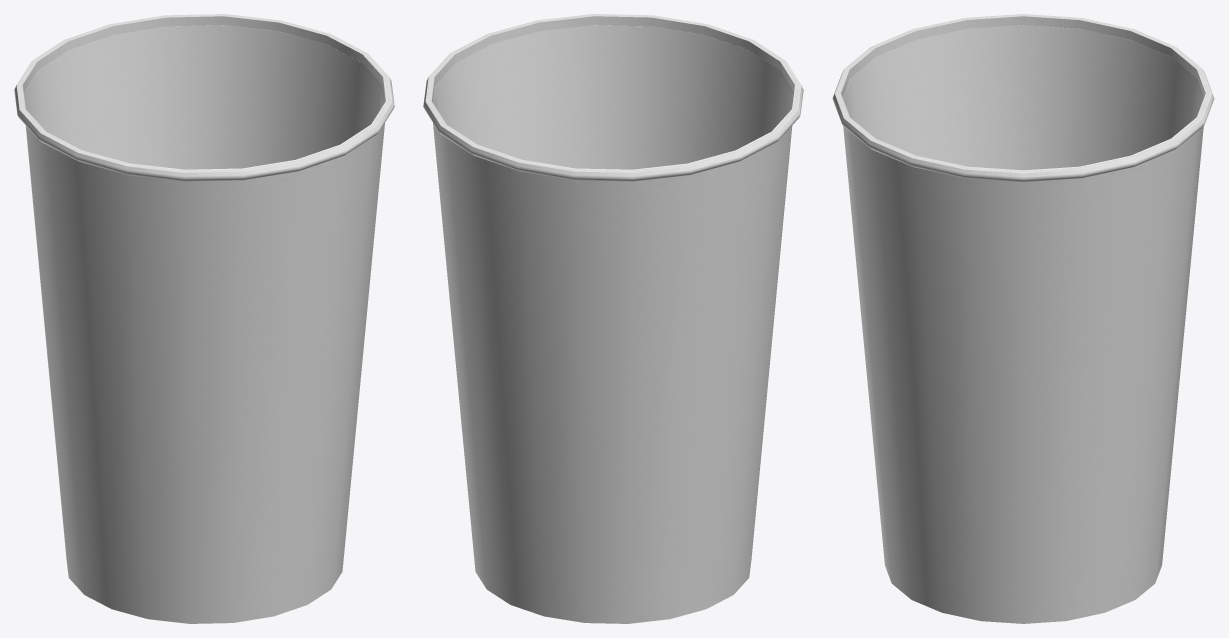
File: CokeCup.obj
3 renders of one model, left to right at view 1: azimuth 30°, elevation 25°; view 2: azimuth 150°, elevation 25°; view 3: azimuth 270°, elevation 25°, orthographic.
Parts seen in each view (by area): view 1: polySurface1; view 2: polySurface1; view 3: polySurface1.
Part boxes in pixels (box(x1,y1,x2,y2)): polySurface1: box(14, 14, 394, 623); polySurface1: box(423, 14, 803, 623); polySurface1: box(832, 14, 1214, 623).
Bounding box in the file's own units: 7.17 × 9.78 × 7.17.
3 materials, 3 textured.
